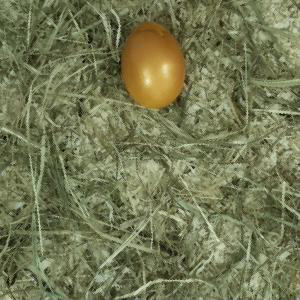egg: (121, 23, 187, 109)
